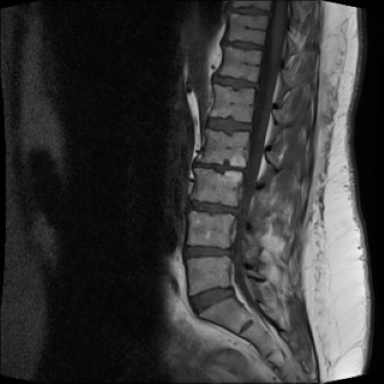Degenerative Disc Disease (DDD): (189, 157, 251, 171), (227, 2, 279, 15), (218, 36, 268, 49)
Lumbar Disc Bulge (LDB): (172, 191, 243, 217), (177, 240, 238, 266), (185, 156, 253, 176)
Normal IVD: (184, 279, 235, 320), (201, 113, 255, 137)
Spinal Stenosis (SS): (216, 186, 249, 225), (215, 233, 246, 268), (246, 70, 269, 94), (253, 37, 272, 56), (262, 2, 279, 20)
Thoracic Disc Bulge (TDB): (208, 70, 263, 91), (217, 35, 268, 52), (224, 1, 275, 16)
